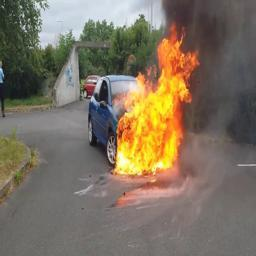fire: (113, 20, 200, 176)
